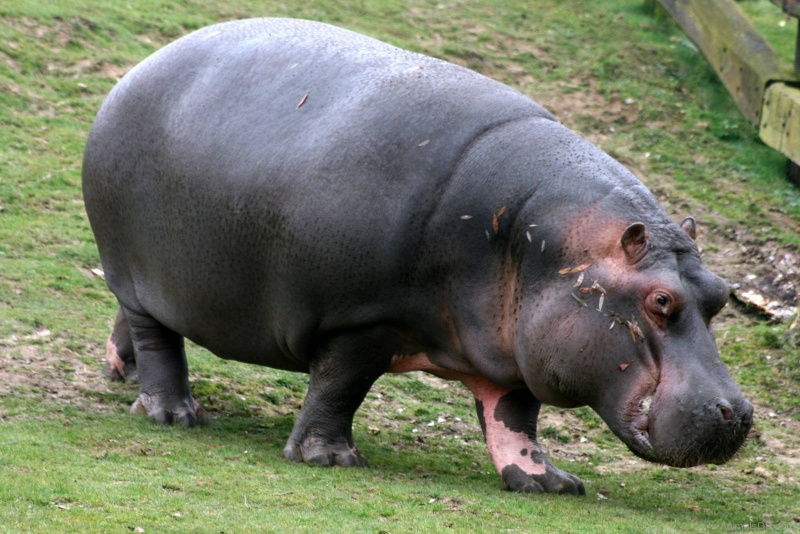hipopotamo: (79, 12, 758, 499)
